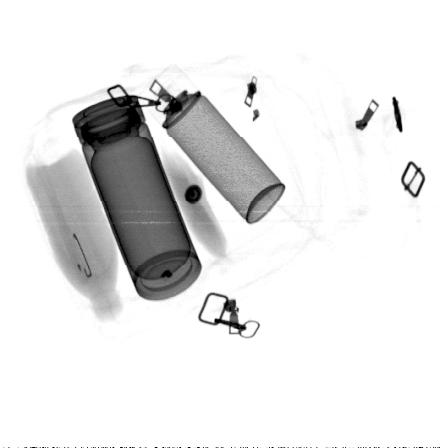Sprayer: (137, 62, 286, 225)
